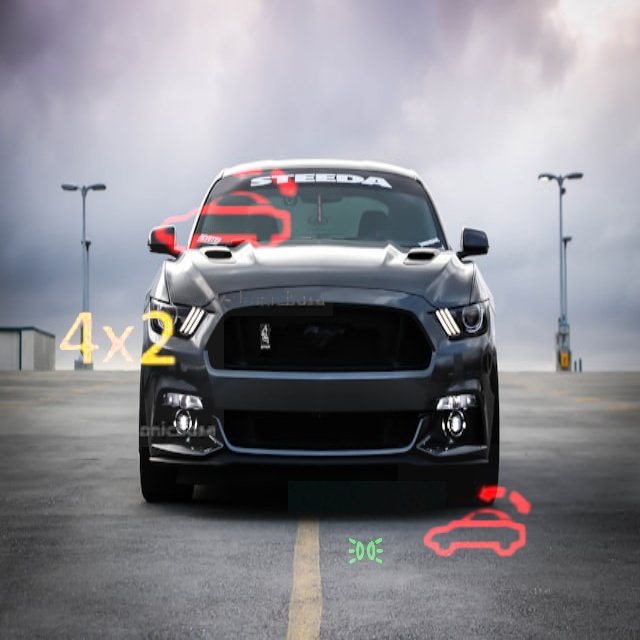symbol: (10, 233, 224, 447), (121, 104, 333, 316), (398, 444, 557, 603), (288, 481, 446, 639)
